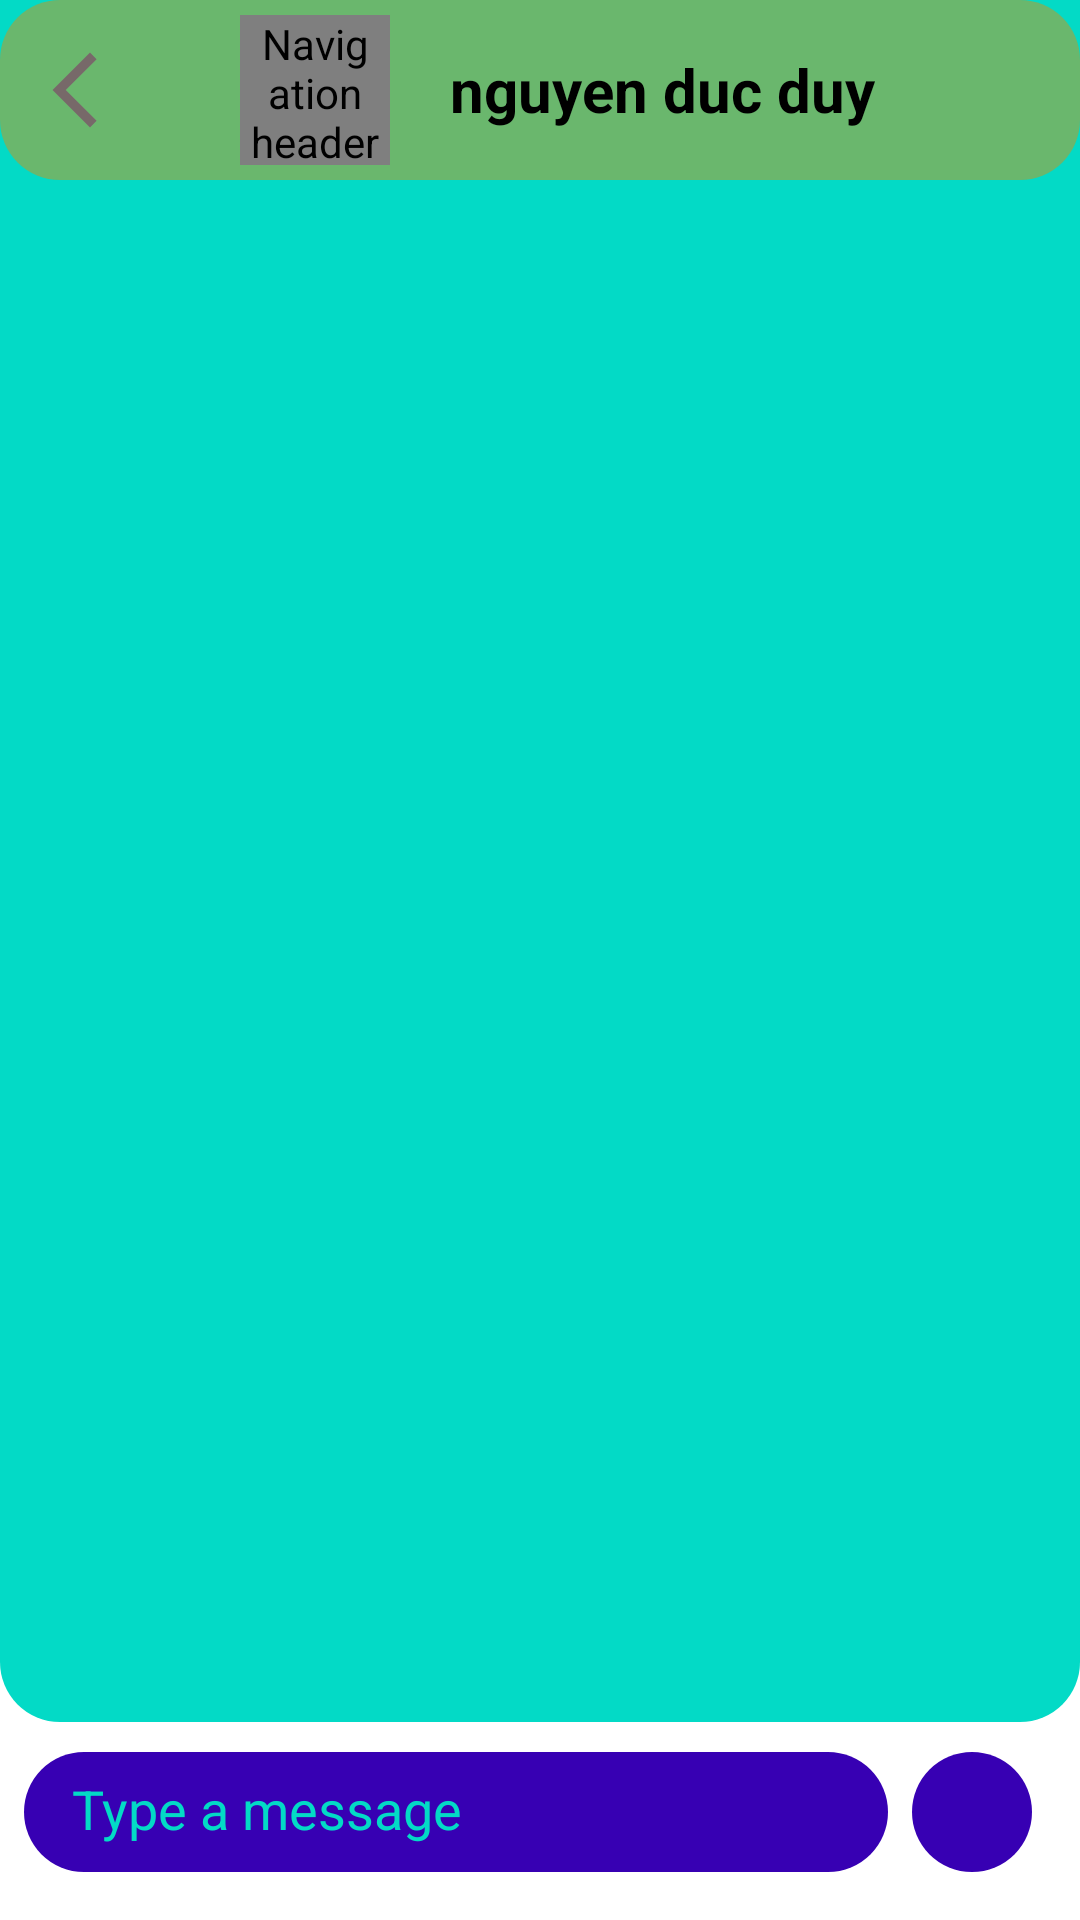

Icon bounding boxes for this 1080 × 1920 phone screenshot, format (x1, y1, x2, y2):
back: (53, 53, 96, 127)
